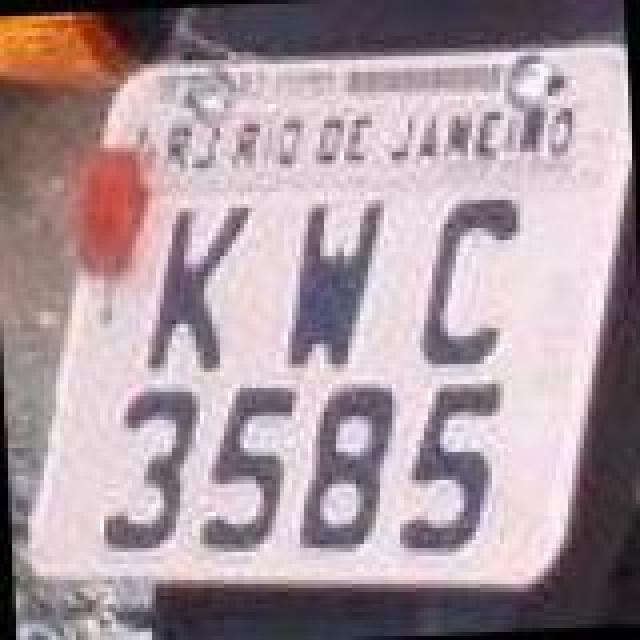3: (94, 382, 210, 554)
5: (386, 374, 510, 554), (190, 380, 306, 556)
8: (286, 378, 402, 550)
C: (408, 192, 528, 368)
K: (136, 200, 264, 376)
W: (276, 190, 396, 370)
